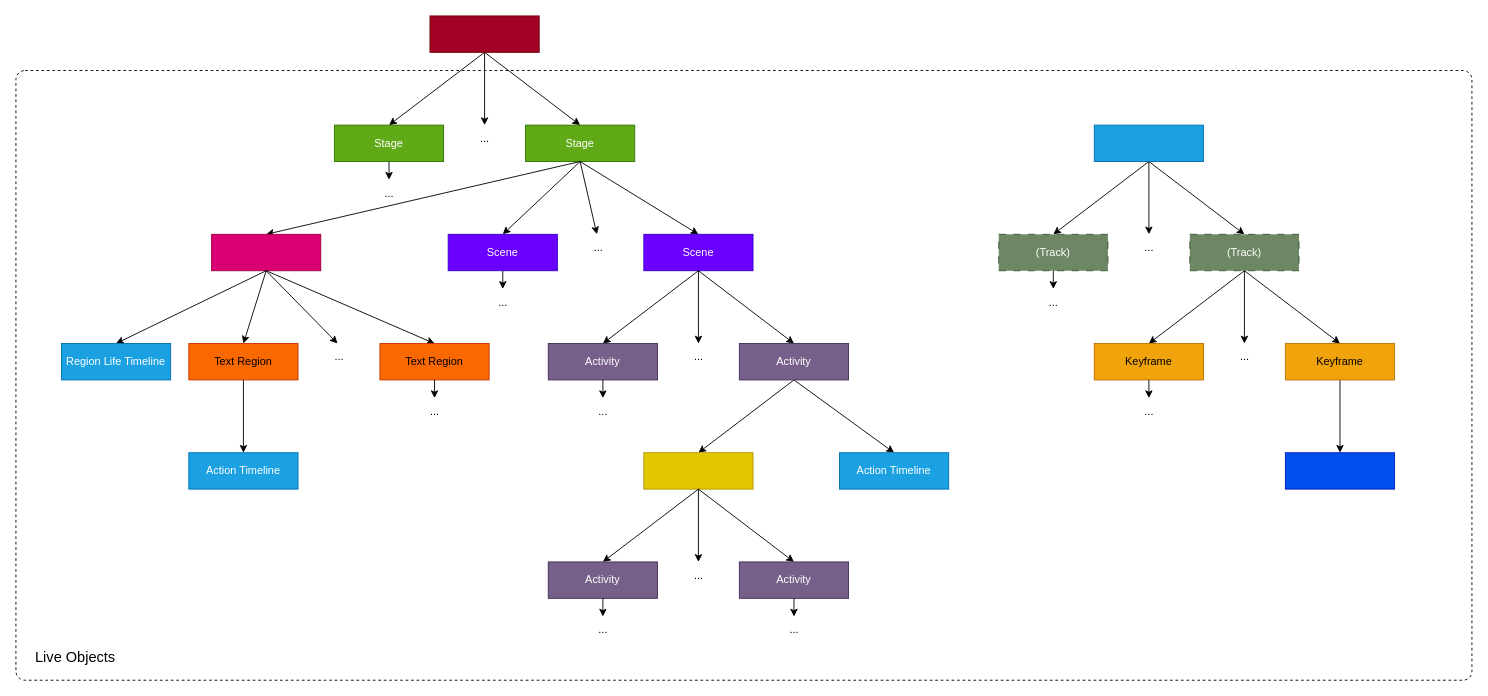
This 1488x696 diagram has some shape labels left out. The centre of each missing label's shape, as x and y in pixels:
"Action" belongs at [1339,470].
"Actor" belongs at [698,470].
"Main Dialog" belongs at [266,252].
"Manager" belongs at [484,33].
"Timeline" belongs at [1148,143].
